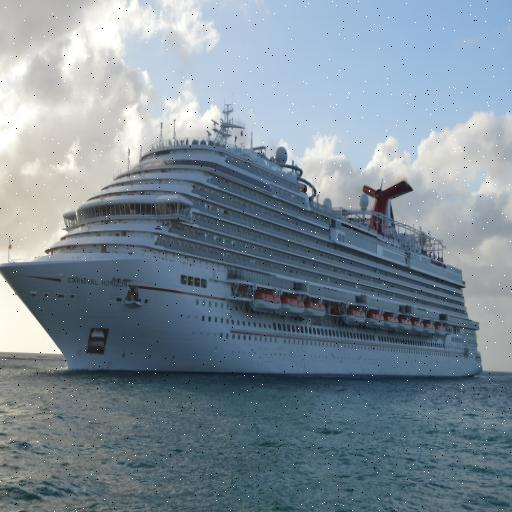cruises: (1, 76, 501, 405)
